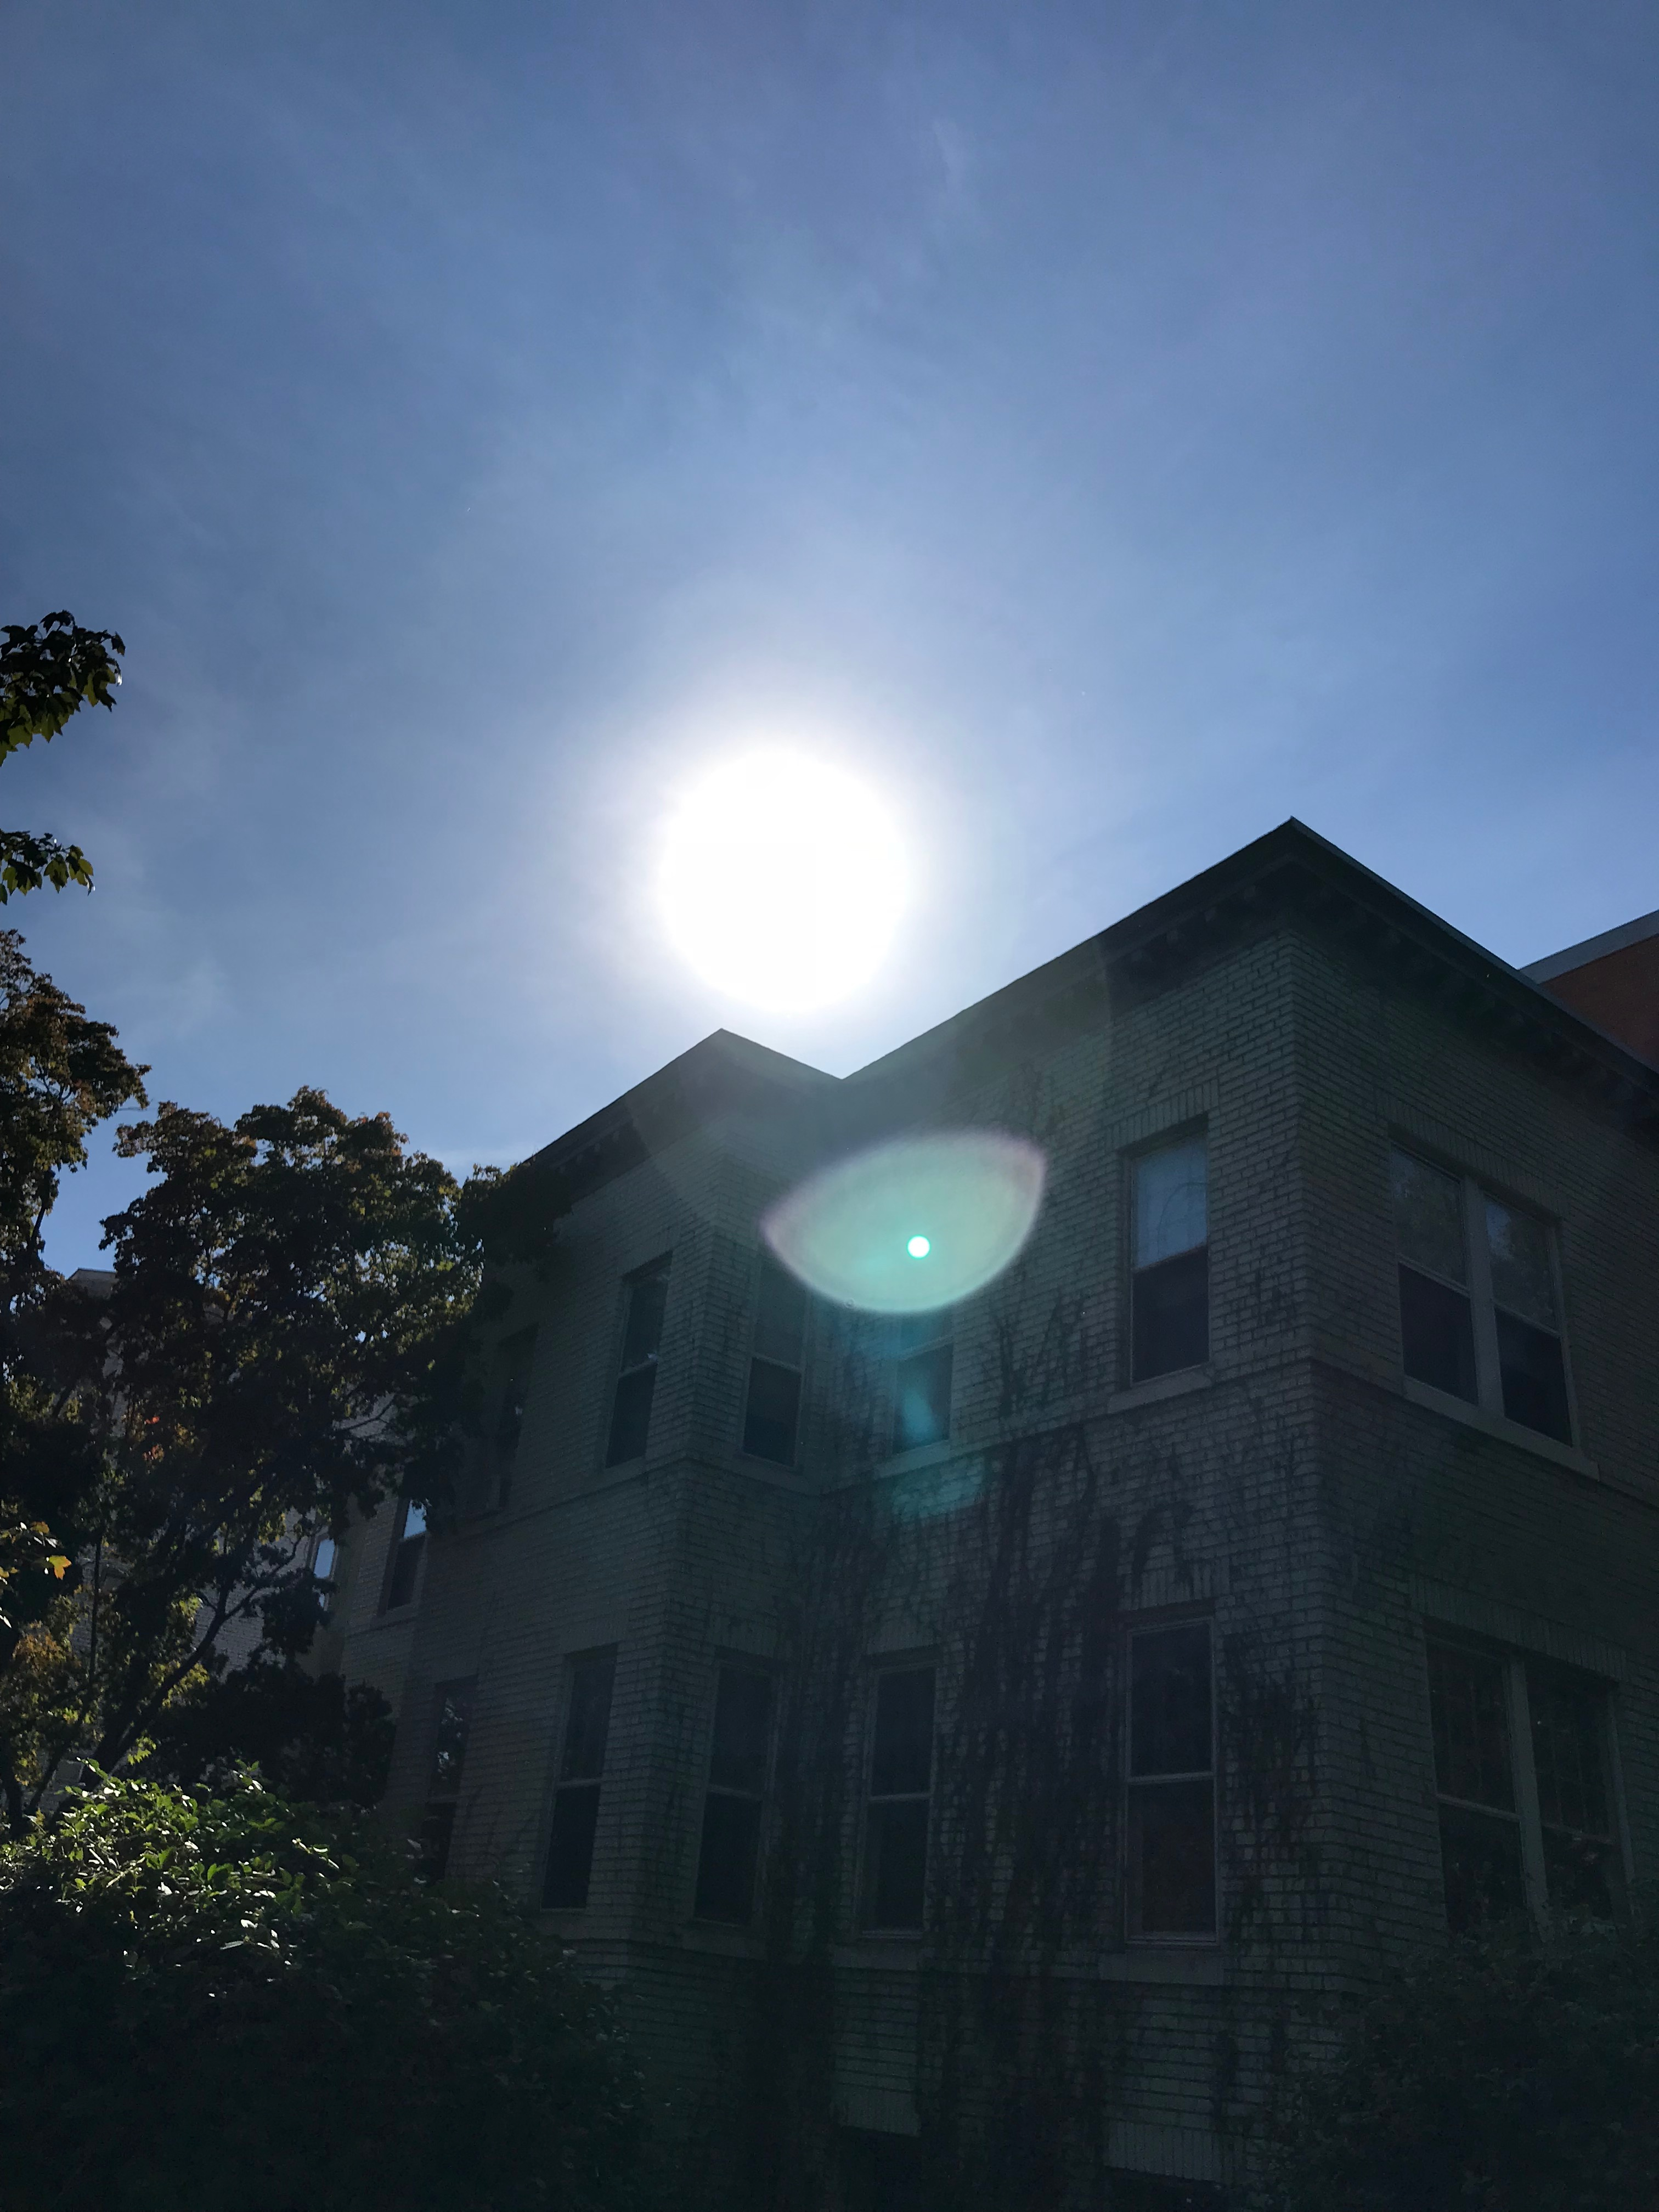flare: (904, 1233, 934, 1261)
